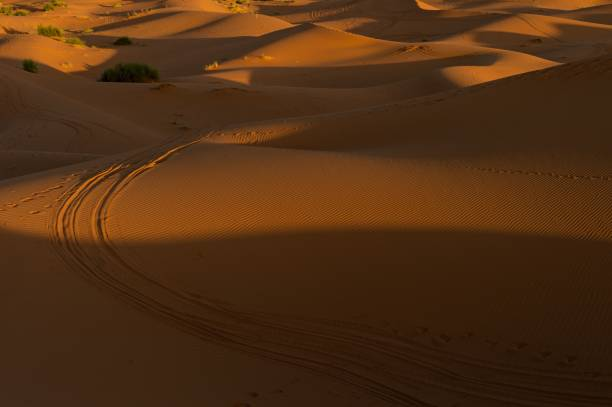vehicle_track: (50, 139, 611, 406)
